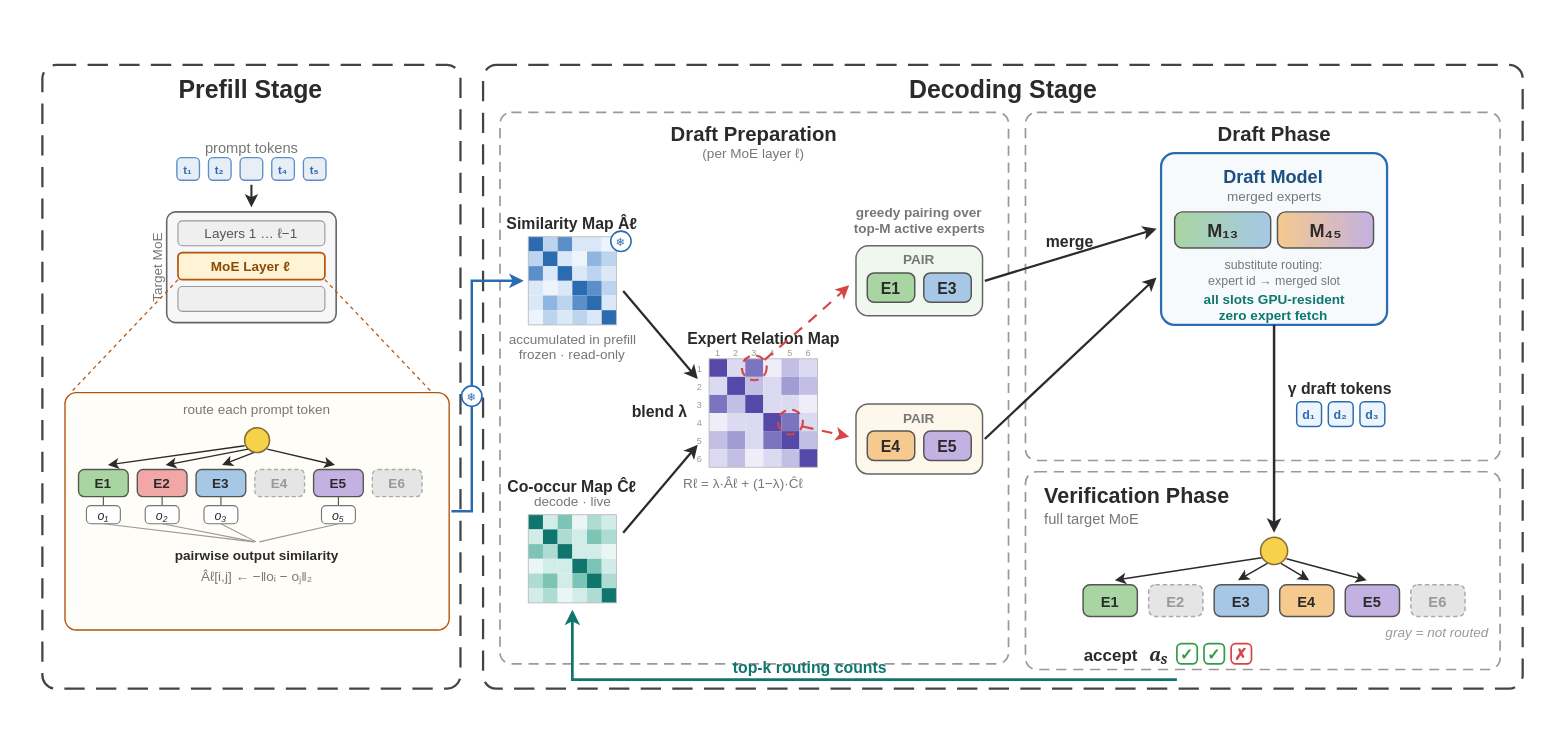
Some shapes in this 1564 by 739 pixel diagram are drawn without their labels. The shapes that lost their labels are listed below. From the top down, each one's centre as x and y in pixels, then its label:
point (251, 168): t₃
point (251, 298): Layers ℓ+1 … L
